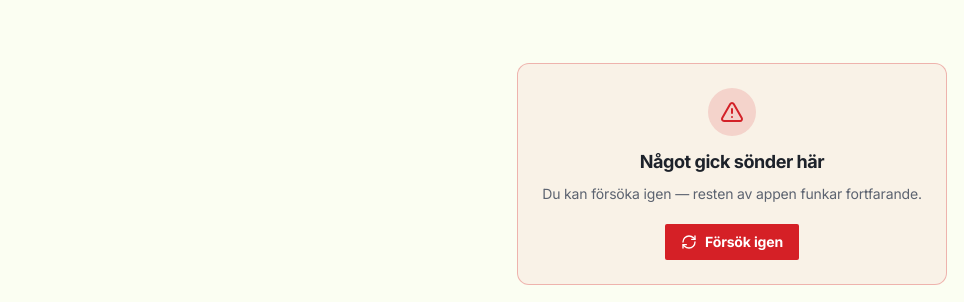
Test case: ErrorBoundary › kan återställa via 'Försök igen'-knappen
This screenshot has width=964, height=302.
Check: the message is shown, box x1=517 y1=63 x2=947 y2=285
Click the button "Försök igen".
click(732, 242)  # box x1=665 y1=224 x2=799 y2=260
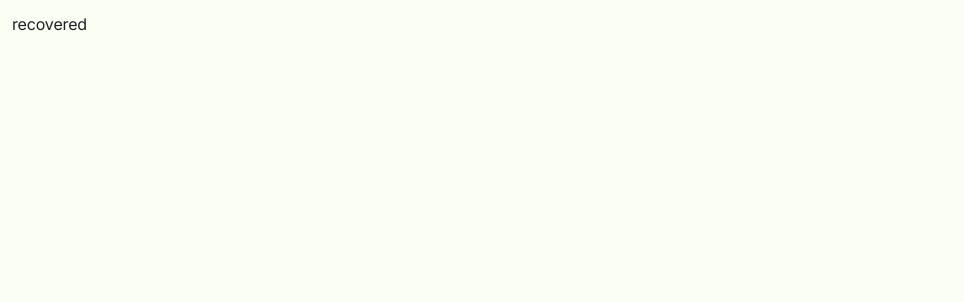
Check: the text "recovered" is shown, box x1=12 y1=14 x2=87 y2=34
